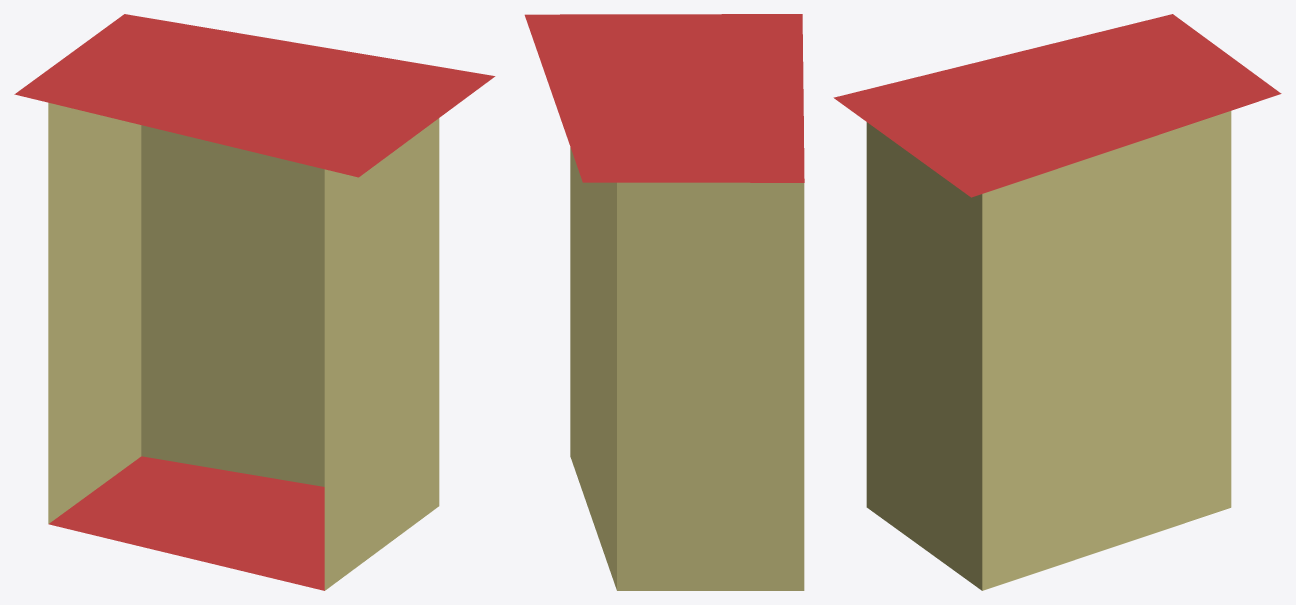
The picture shows the model from 3 angles, left to right: view 1: azimuth 30°, elevation 25°; view 2: azimuth 150°, elevation 25°; view 3: azimuth 270°, elevation 25°; orthographic projection.
Bounding box in the file's own units: 5.59 × 5.77 × 5.94.
